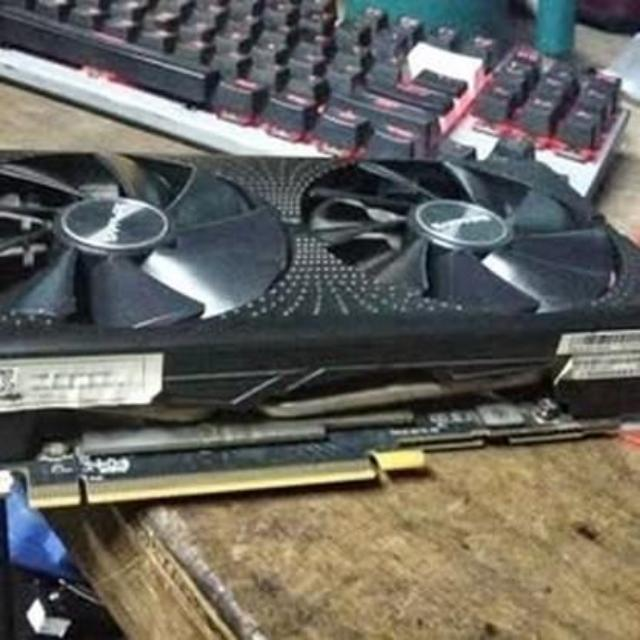GPU: (0, 138, 640, 532)
